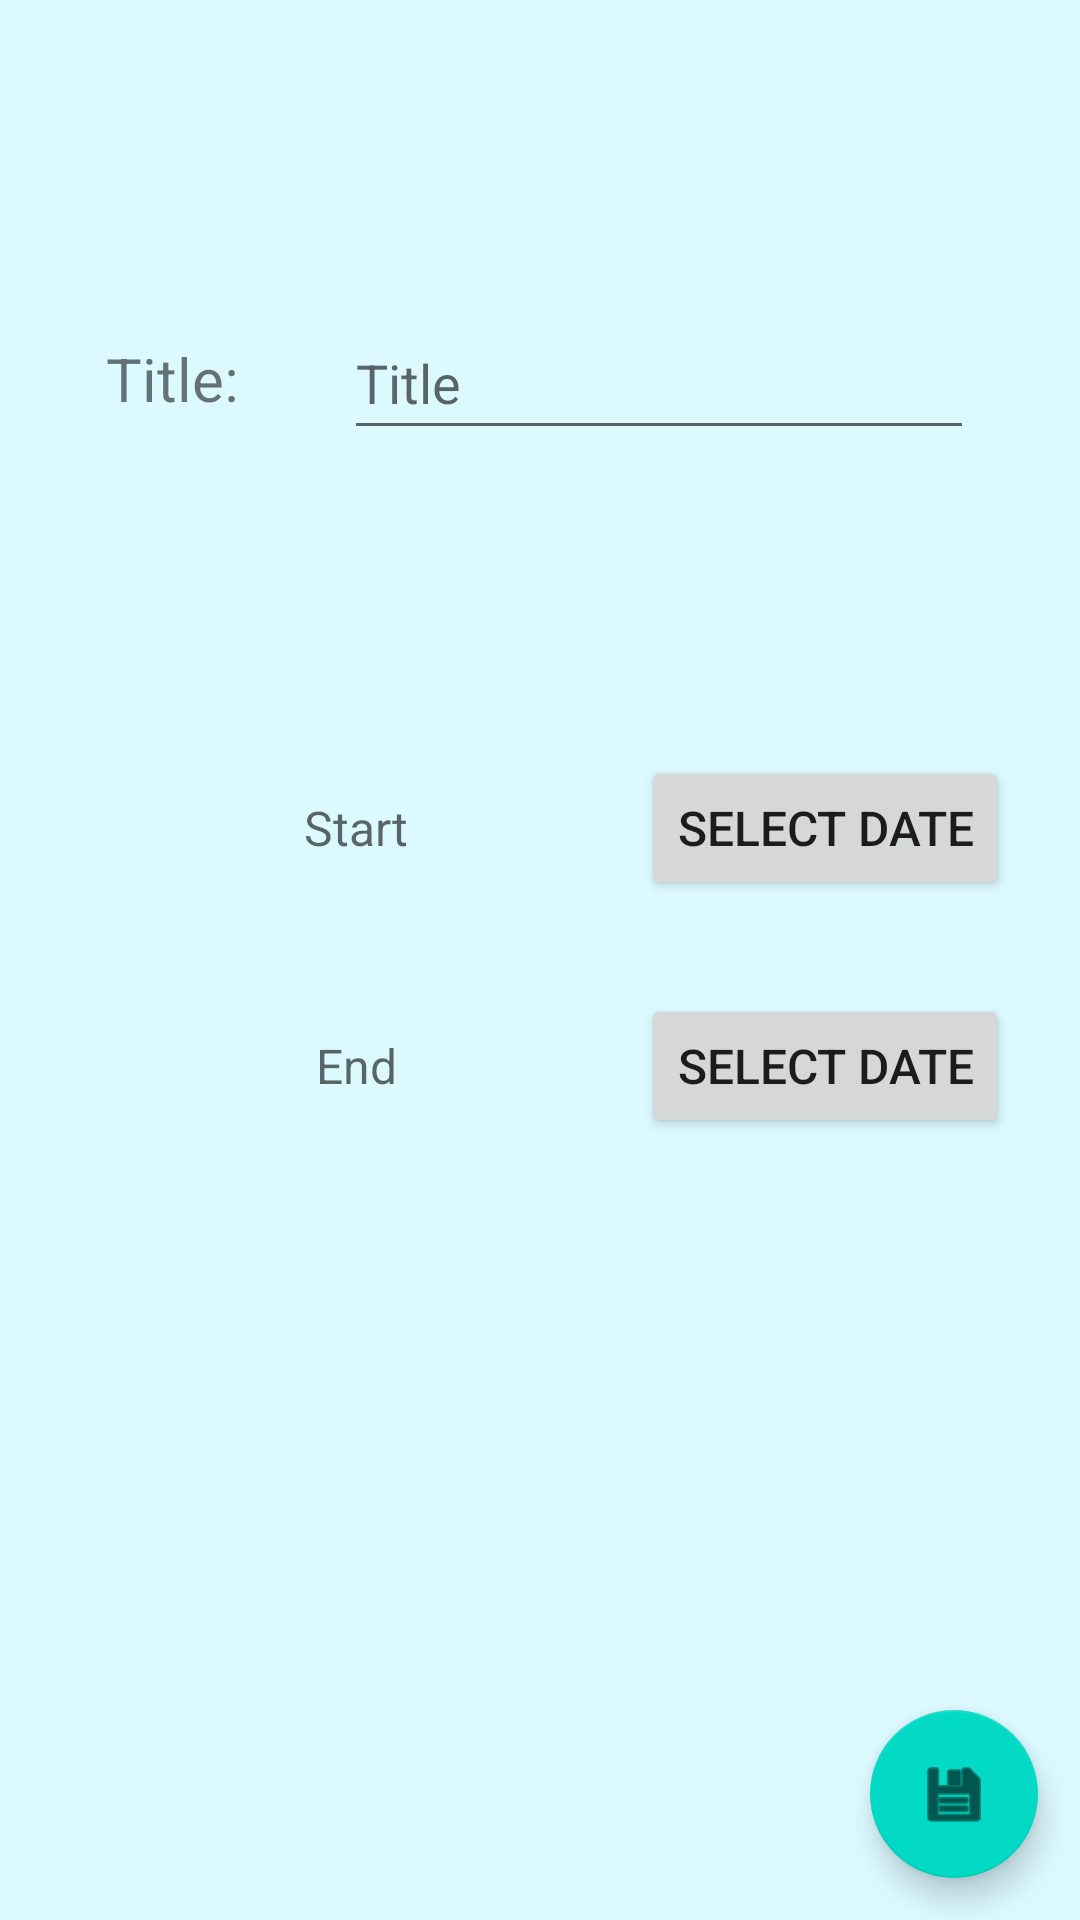

Icon click points for this 1080x1920 phone screenshot, format [x,y]:
save button: [954,1794]
